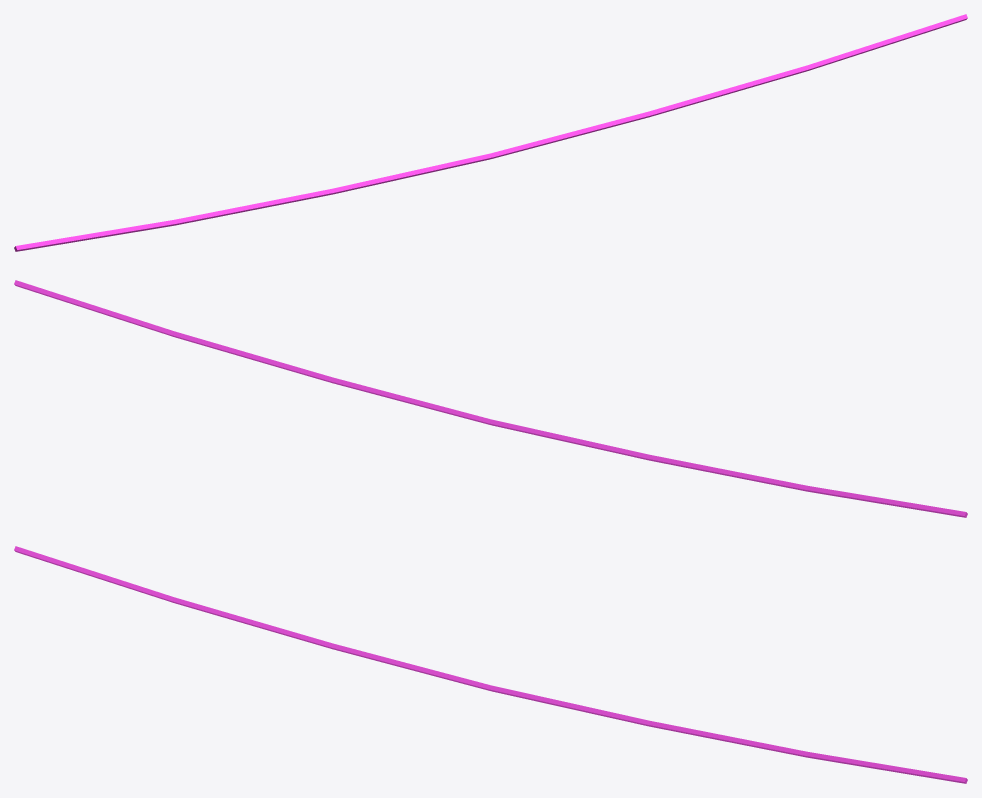
The model's file is SM_Rope_5M_Fantasy.fbx.
The picture shows the model from 3 angles, top to bottom: view 1: azimuth 30°, elevation 25°; view 2: azimuth 150°, elevation 25°; view 3: azimuth 330°, elevation 25°; orthographic projection.
Visible parts, largest first — view 1: SM_Rope_5M_Fantasy; view 2: SM_Rope_5M_Fantasy; view 3: SM_Rope_5M_Fantasy.
Boxes of the visible parts, box(x1,y1,x2,y2) form: SM_Rope_5M_Fantasy: box(14, 14, 967, 251); SM_Rope_5M_Fantasy: box(14, 280, 967, 517); SM_Rope_5M_Fantasy: box(14, 546, 967, 783).
Bounding box in the file's own units: 5 × 0.1471 × 0.03.
